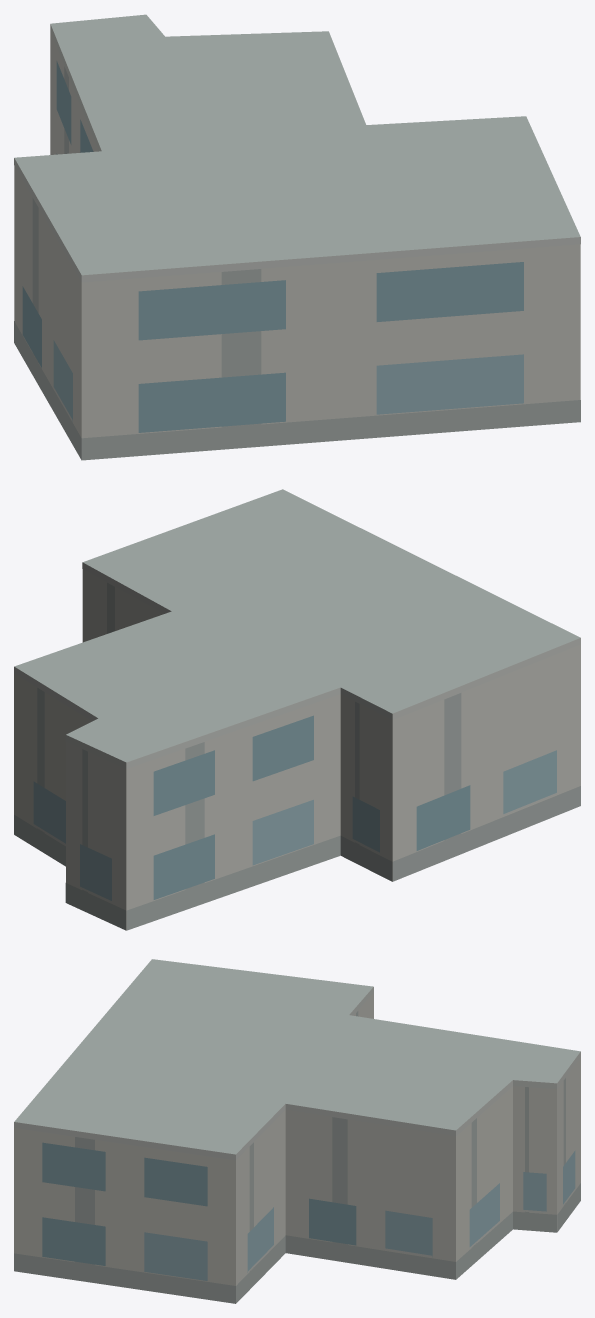
File: survey-upis-33037720.glb
The picture shows the model from 3 angles, top to bottom: view 1: azimuth 30°, elevation 25°; view 2: azimuth 150°, elevation 25°; view 3: azimuth 270°, elevation 25°; orthographic projection. The views are drawn at different scales.
Parts seen in each view (by area): view 1: survey-upis-33037720.tmp; view 2: survey-upis-33037720.tmp; view 3: survey-upis-33037720.tmp.
Part boxes in pixels (x1,y1,x2,y2): survey-upis-33037720.tmp: [14, 14, 580, 460]; survey-upis-33037720.tmp: [14, 489, 580, 930]; survey-upis-33037720.tmp: [14, 959, 580, 1303].
Bounding box in the file's own units: 17.13 × 6.1 × 20.99.
